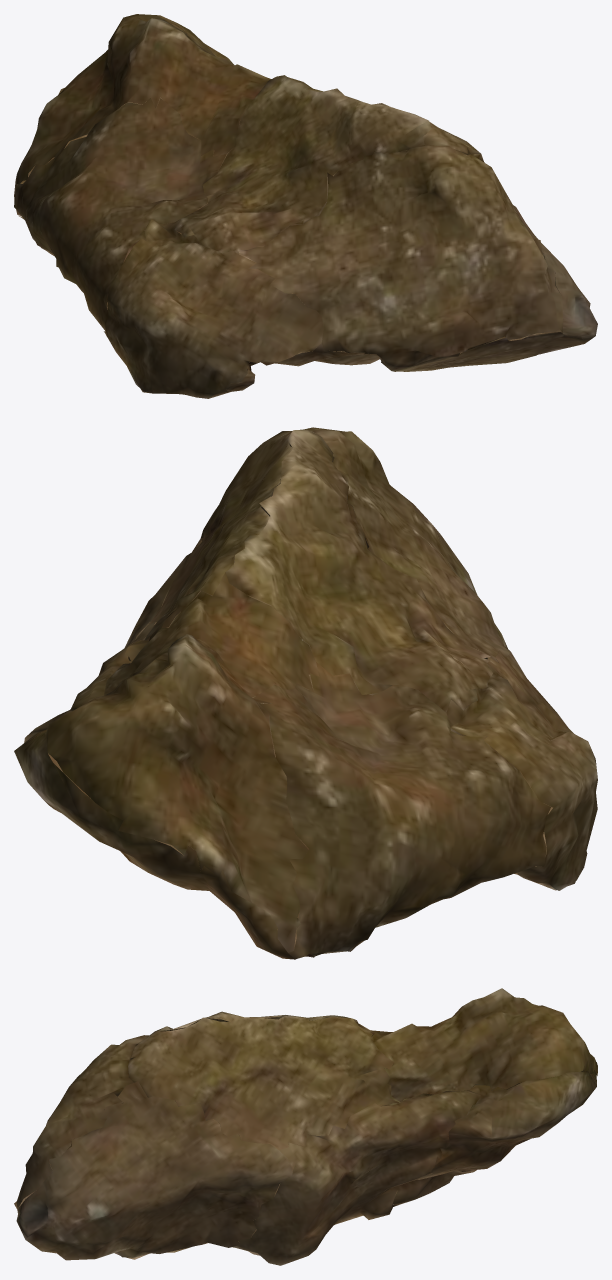
Rendered from moss-rock.glb.
3 views of the same model, one above another, from view 1: azimuth 30°, elevation 25°; view 2: azimuth 150°, elevation 25°; view 3: azimuth 270°, elevation 25° (orthographic). The views are drawn at different scales.
Parts seen in each view (by area): view 1: moss-rock; view 2: moss-rock; view 3: moss-rock.
Part boxes in pixels (left/top/right/bottom): moss-rock: left=14, top=14, right=597, bottom=398; moss-rock: left=14, top=427, right=597, bottom=959; moss-rock: left=14, top=988, right=597, bottom=1265.
Bounding box in the file's own units: 1.85 × 1.22 × 2.8.
1 material, 1 textured.
